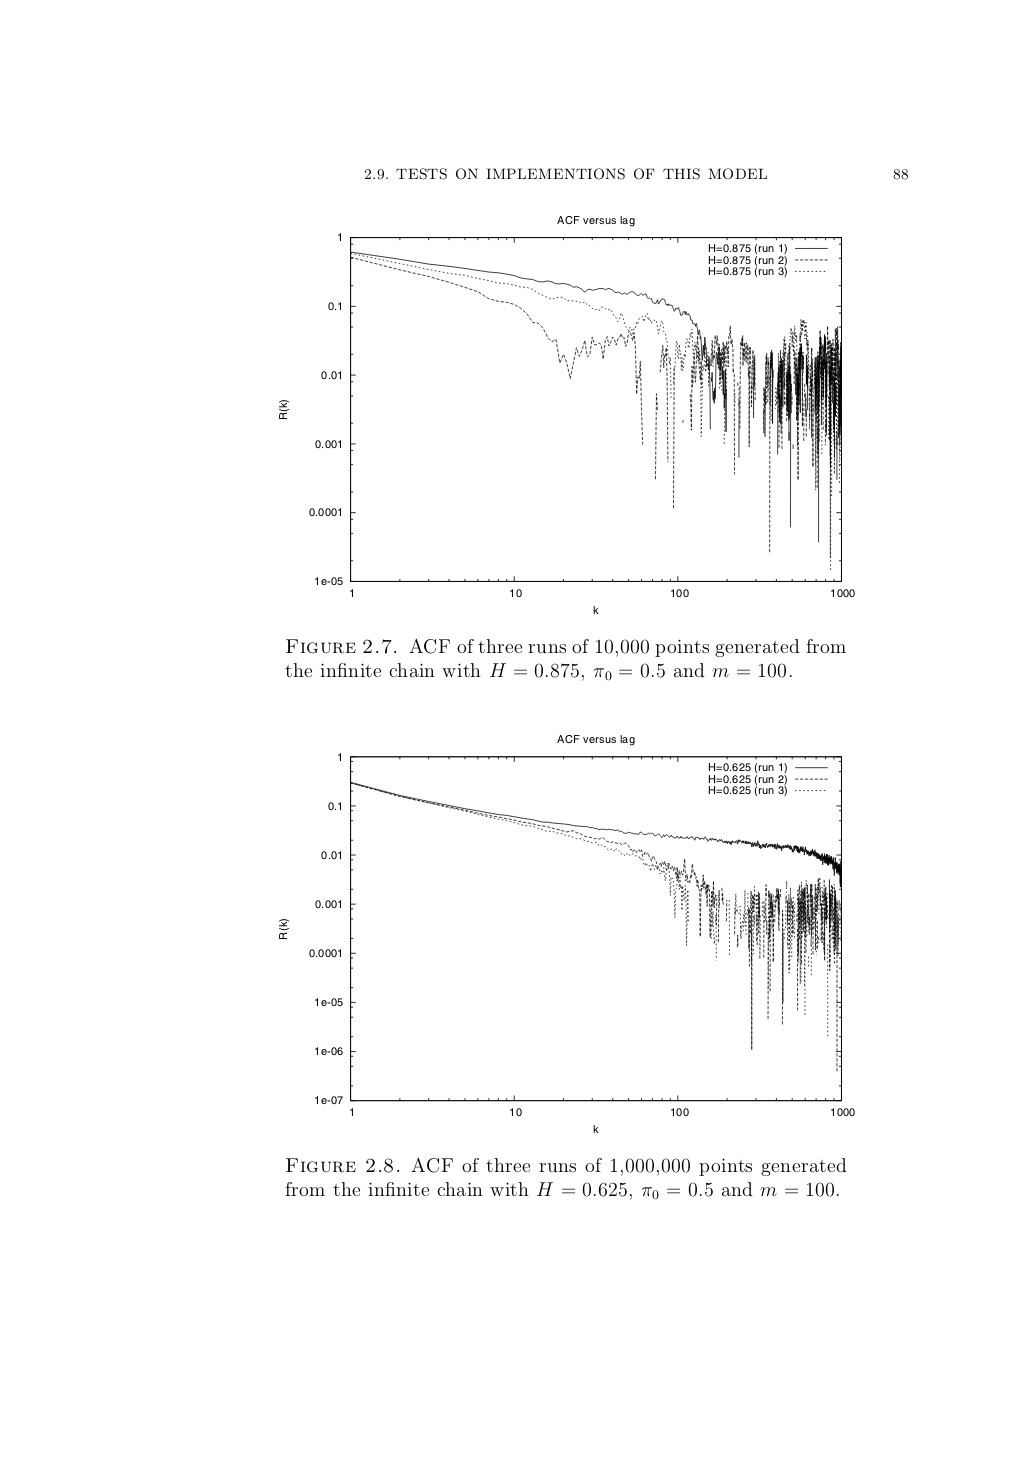figure: (279, 233, 854, 613), (279, 753, 854, 1132)
